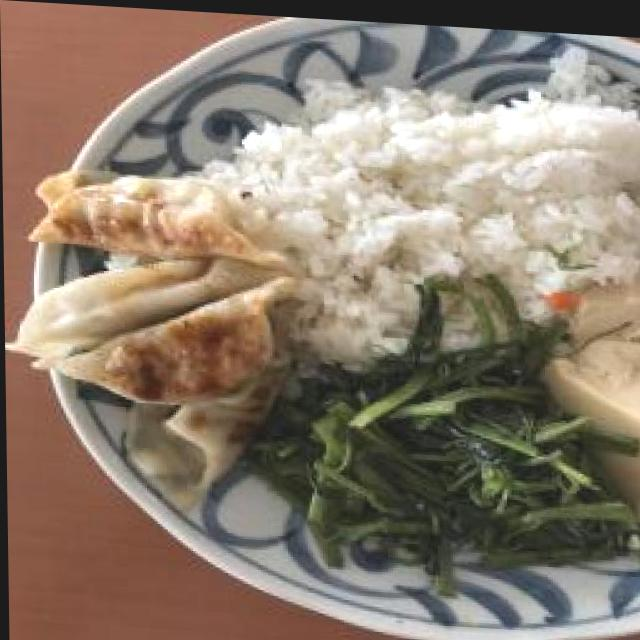fried_dumplings: (47, 177, 270, 455)
rice: (306, 92, 640, 323)
water_spinach: (319, 343, 541, 536)
